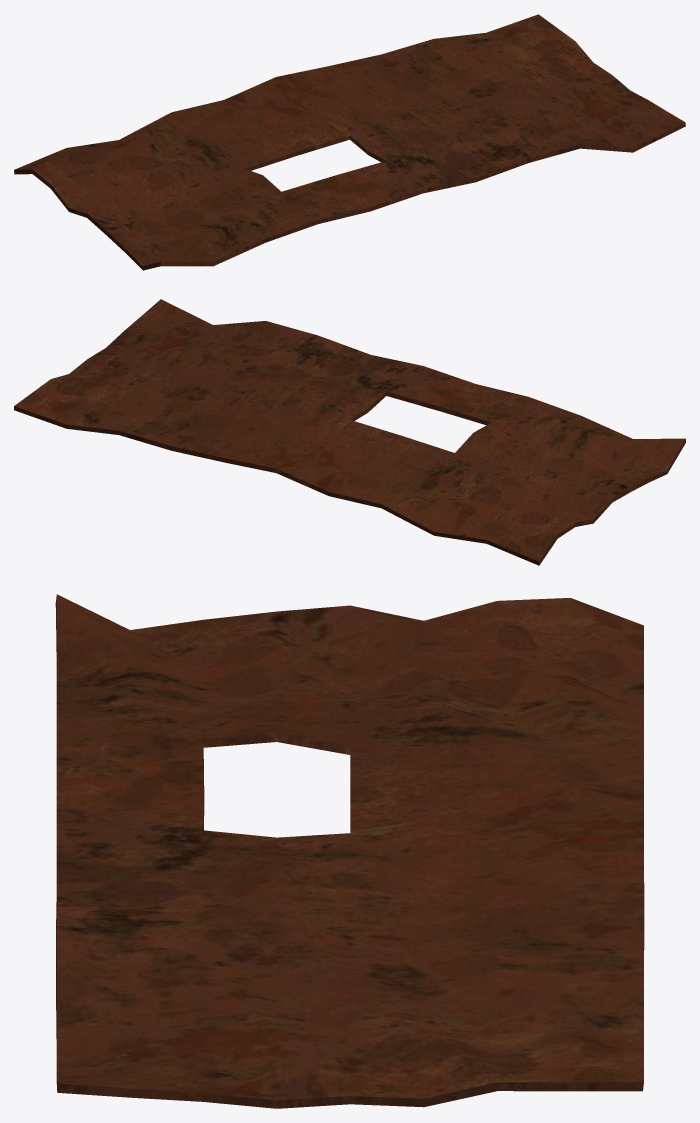
Rendered from sheet_2.glb.
3 views of the same model, one above another, from view 1: azimuth 30°, elevation 25°; view 2: azimuth 150°, elevation 25°; view 3: azimuth 270°, elevation 25° (orthographic). The views are drawn at different scales.
Parts seen in each view (by area): view 1: sheet_2; view 2: sheet_2; view 3: sheet_2.
Boxes of the visible parts, x1,y1,x2,y2 form: sheet_2: (14, 14, 685, 270); sheet_2: (14, 299, 685, 565); sheet_2: (55, 594, 644, 1108).
Bounding box in the file's own units: 0.499 × 0.0343 × 0.2419.
Materials: 1 (1 with a texture image).
